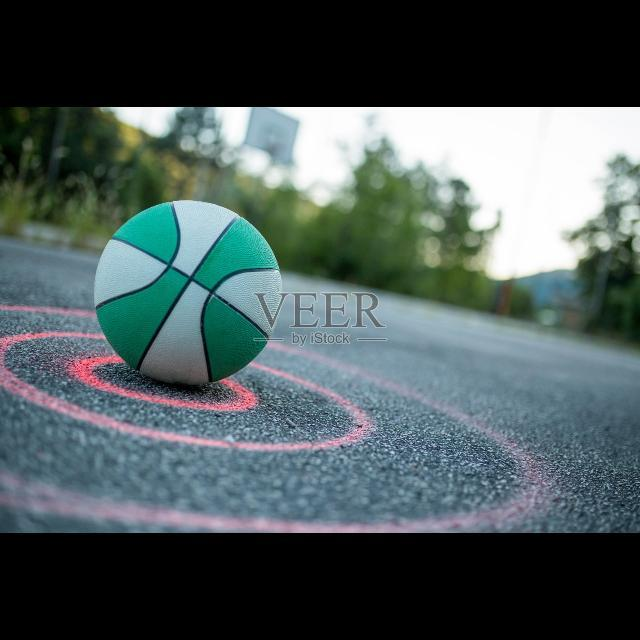basketball: (95, 200, 282, 384)
